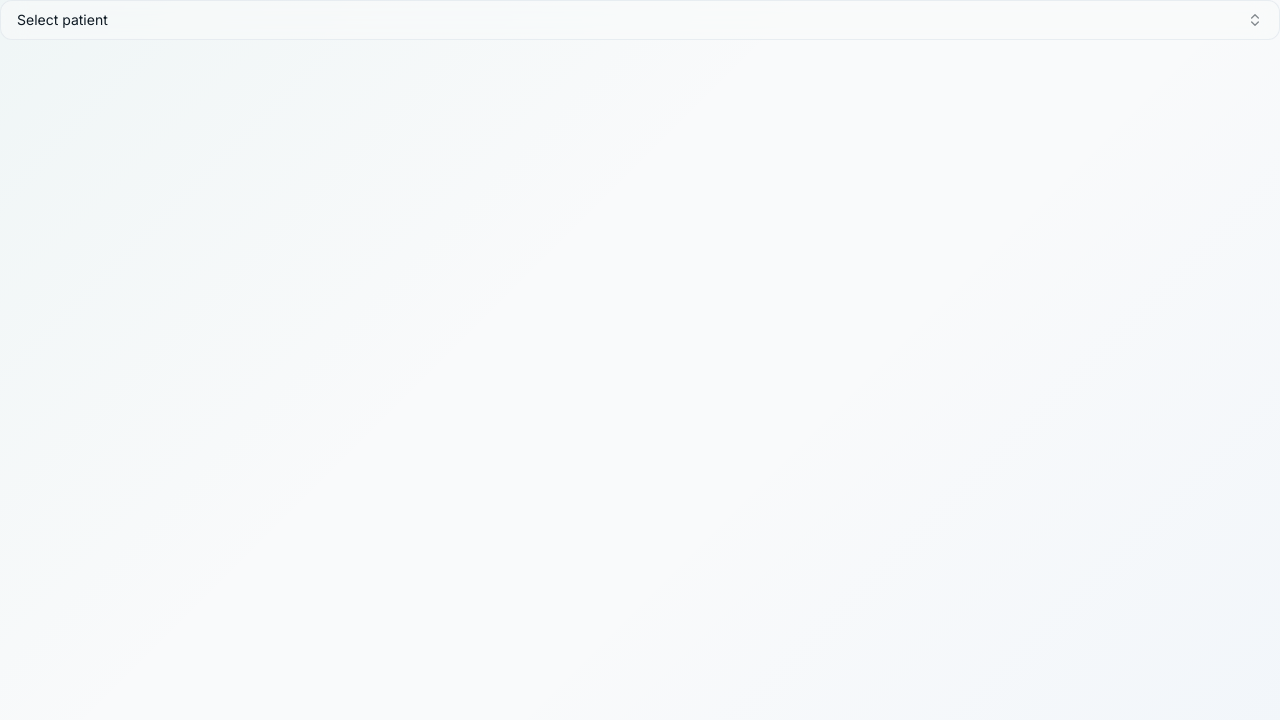
it: PatientCombobox › fetches deep enough to clear the phone-named block, and only once
Click the dropdown.
click(62, 20)  # box [0,0,1279,40]
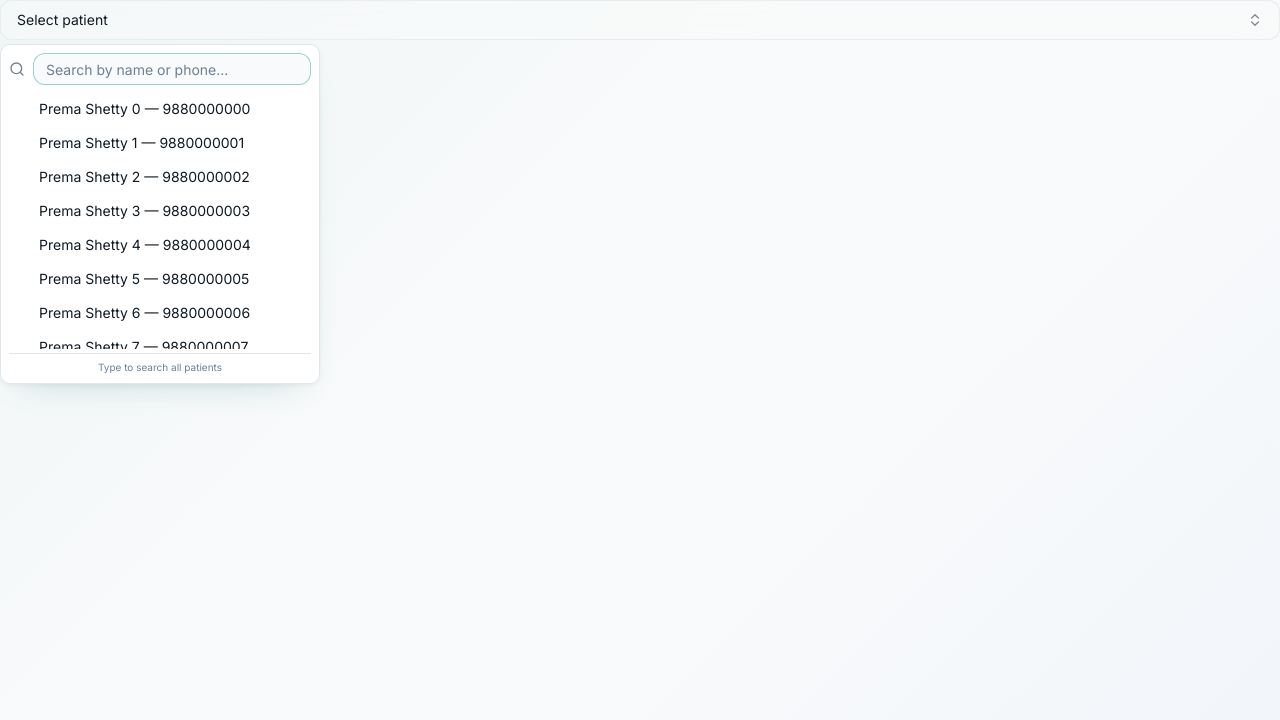
Check: the field with placeholder "Search by name or phone..." is shown, box [33,53,311,85]
